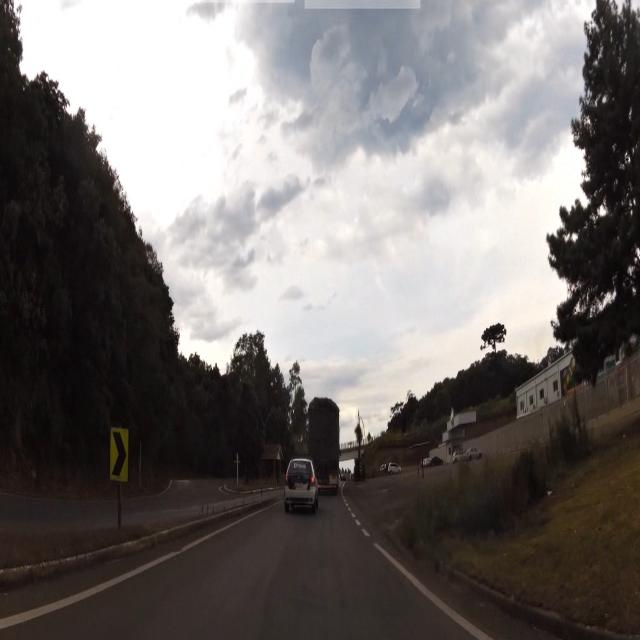Del: (110, 425, 129, 487)
